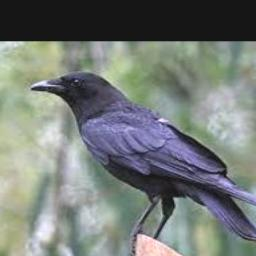Crow: (31, 71, 256, 256)
